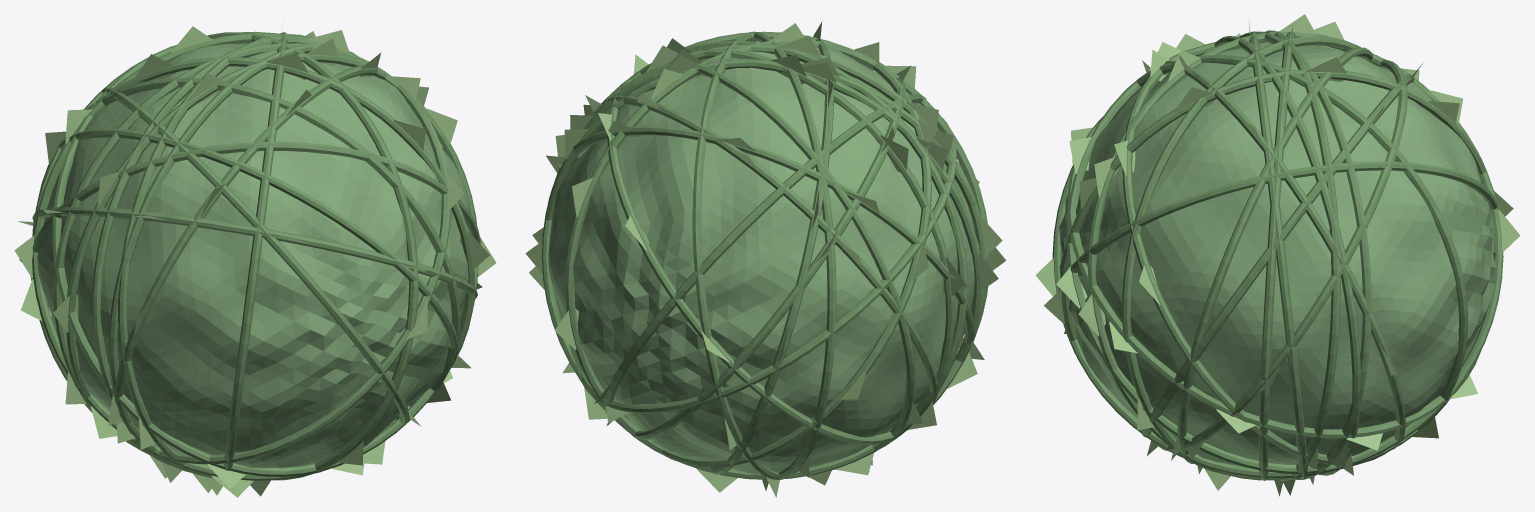
Rendered from planet_2.glb.
3 views of the same model, side by side, from view 1: azimuth 30°, elevation 25°; view 2: azimuth 150°, elevation 25°; view 3: azimuth 270°, elevation 25° (orthographic).
Parts seen in each view (by area): view 1: world; view 2: world; view 3: world.
Part boxes in pixels (<box>): world: <box>14,26,496,497</box>; world: <box>525,21,1005,497</box>; world: <box>1035,14,1520,496</box>.
Size of the model in its own units: 2.24 by 2.21 by 2.24.
